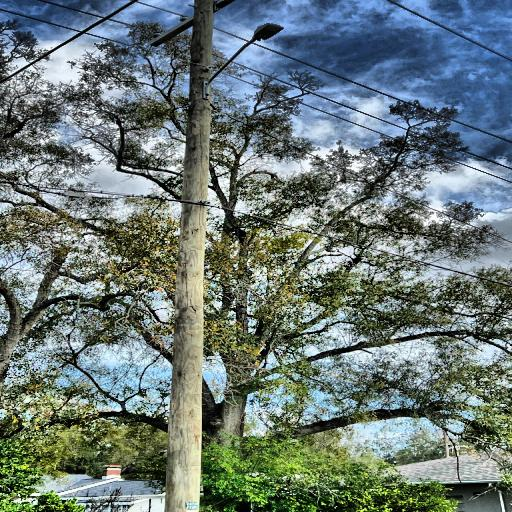pole: (184, 0, 222, 512)
street light: (193, 16, 290, 100)
